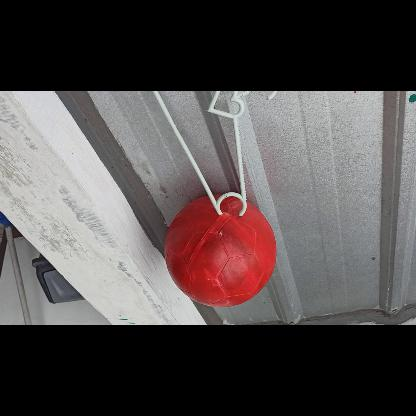red_ball: (166, 195, 278, 307)
